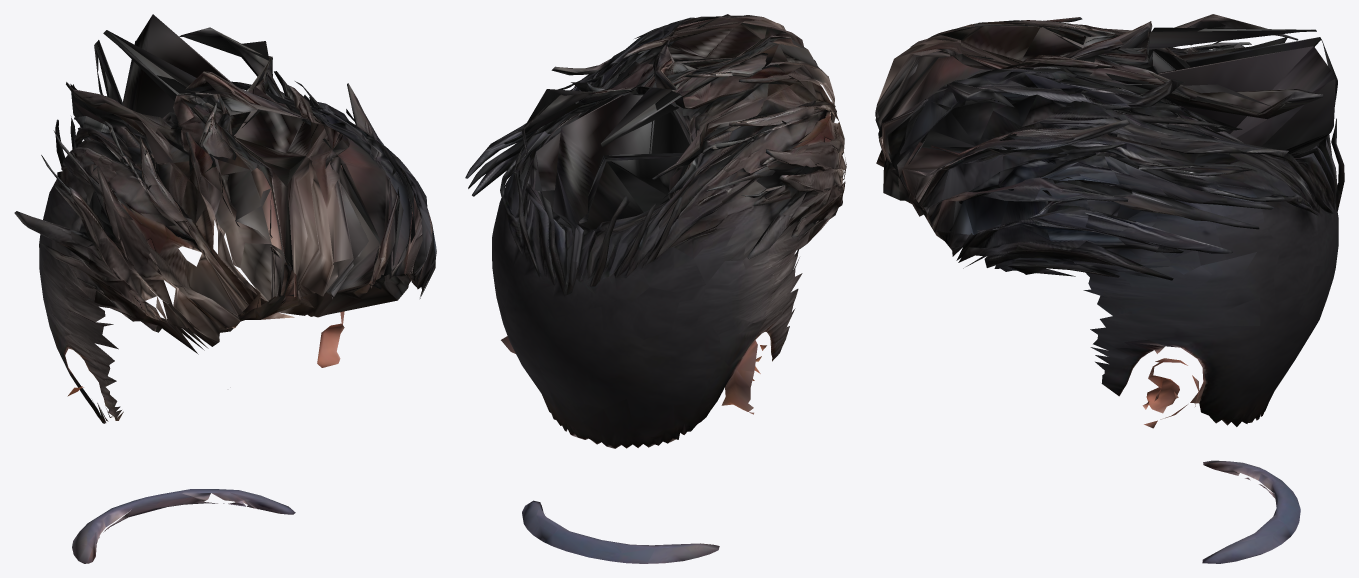
Rendered from pelo_undercut.glb.
The picture shows the model from 3 angles, left to right: view 1: azimuth 30°, elevation 25°; view 2: azimuth 150°, elevation 25°; view 3: azimuth 270°, elevation 25°; orthographic projection. The views are drawn at different scales.
Parts seen in each view (by area): view 1: pelo_undercut; view 2: pelo_undercut; view 3: pelo_undercut.
Part boxes in pixels (x1,y1,x2,y2): pelo_undercut: (14, 14, 436, 563); pelo_undercut: (465, 14, 846, 563); pelo_undercut: (875, 14, 1344, 563).
Bounding box in the file's own units: 0.2073 × 0.2913 × 0.2545.
1 material, 1 textured.
